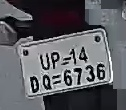1: (68, 47, 78, 65)
3: (84, 65, 96, 82)
4: (77, 48, 88, 62)
6: (63, 70, 73, 87), (97, 64, 106, 82)
7: (74, 67, 82, 86)
D: (27, 73, 40, 94)
P: (50, 51, 59, 70)
Q: (41, 74, 52, 90)
U: (40, 53, 50, 70)
